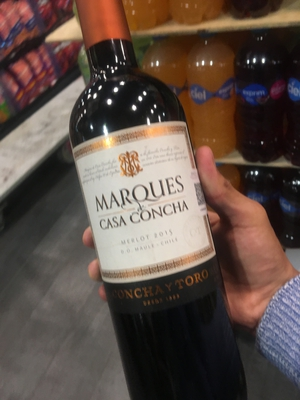marques de casa concha merlot: (57, 15, 229, 395)
